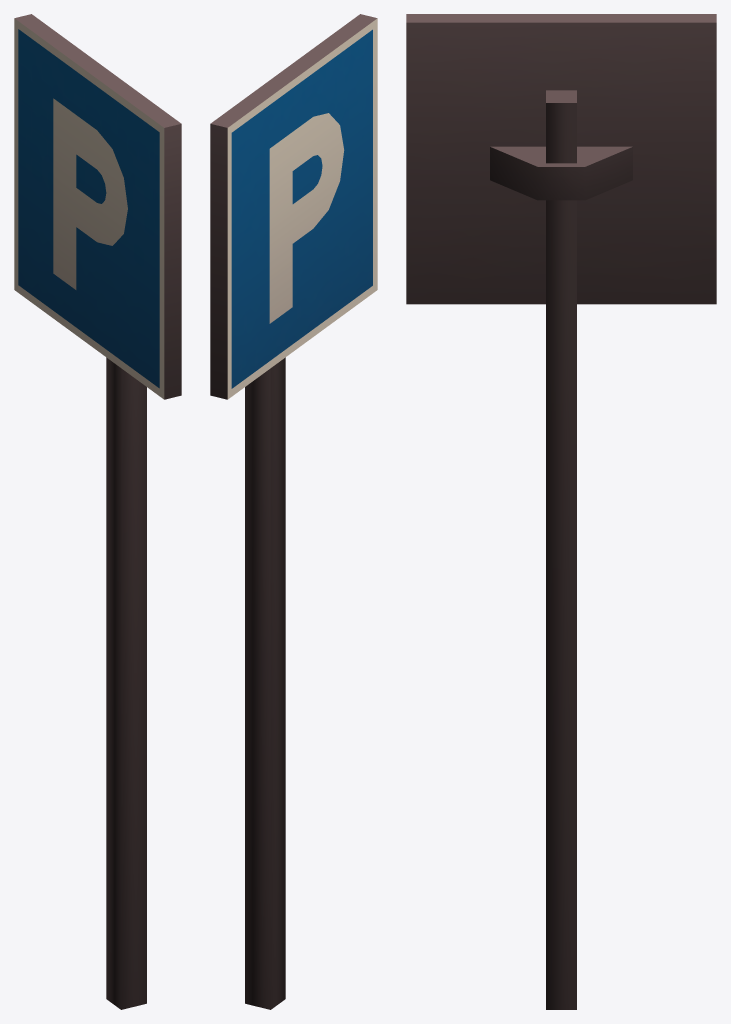
File: TSP_Streetsign_2A.fbx
The picture shows the model from 3 angles, left to right: view 1: azimuth 30°, elevation 25°; view 2: azimuth 150°, elevation 25°; view 3: azimuth 270°, elevation 25°; orthographic projection. The views are drawn at different scales.
Parts seen in each view (by area): view 1: TSP_Streetsign_2A; view 2: TSP_Streetsign_2A; view 3: TSP_Streetsign_2A.
Part boxes in pixels (x1,y1,x2,y2): TSP_Streetsign_2A: (14, 14, 181, 1009); TSP_Streetsign_2A: (210, 14, 377, 1009); TSP_Streetsign_2A: (406, 14, 716, 1009).
Size of the model in its own units: 0.2033 by 3.1 by 0.9.
